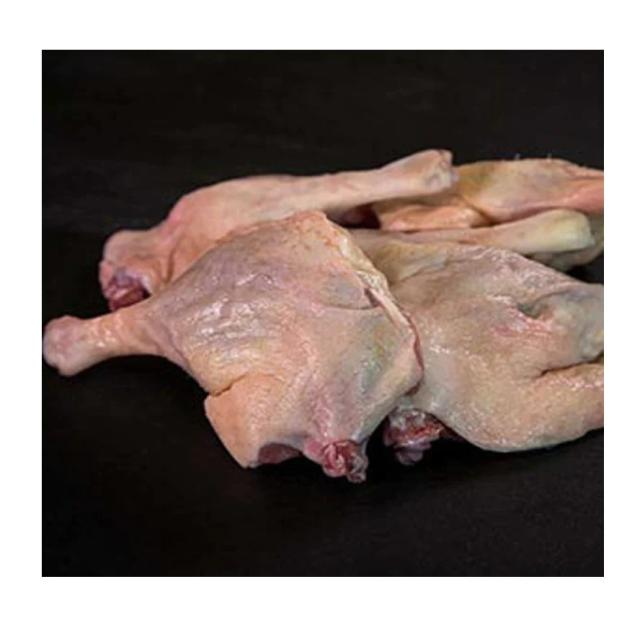duck: (45, 151, 602, 482)
